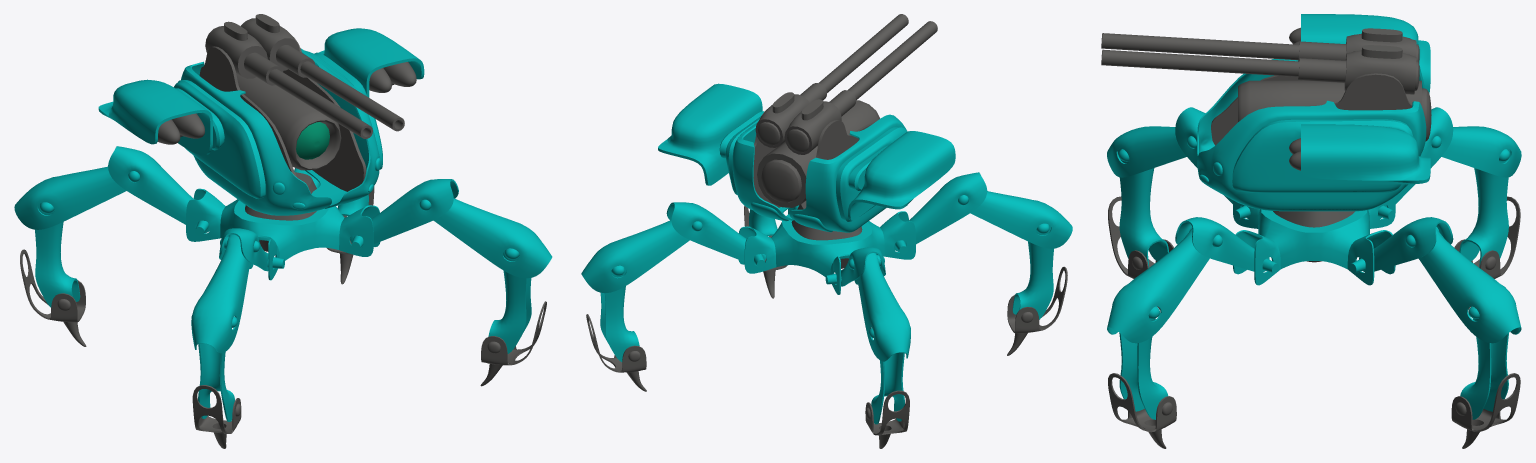
The model's file is spidermech.fbx.
3 views of the same model, side by side, from view 1: azimuth 30°, elevation 25°; view 2: azimuth 150°, elevation 25°; view 3: azimuth 270°, elevation 25° (orthographic). The views are drawn at different scales.
Parts seen in each view (by area): view 1: Cube.008, Cube.010, Cube.001; view 2: Cube.008, Cube.010; view 3: Cube.008, Cube.010.
Boxes of the visible parts, bbox=[...] form: Cube.008: bbox=[14, 28, 552, 421]; Cube.010: bbox=[20, 14, 546, 448]; Cube.001: bbox=[296, 122, 329, 159]; Cube.008: bbox=[581, 83, 1072, 424]; Cube.010: bbox=[586, 14, 1067, 448]; Cube.008: bbox=[1107, 14, 1521, 419]; Cube.010: bbox=[1101, 27, 1520, 448].
Bounding box in the file's own units: 263 × 226 × 251.
